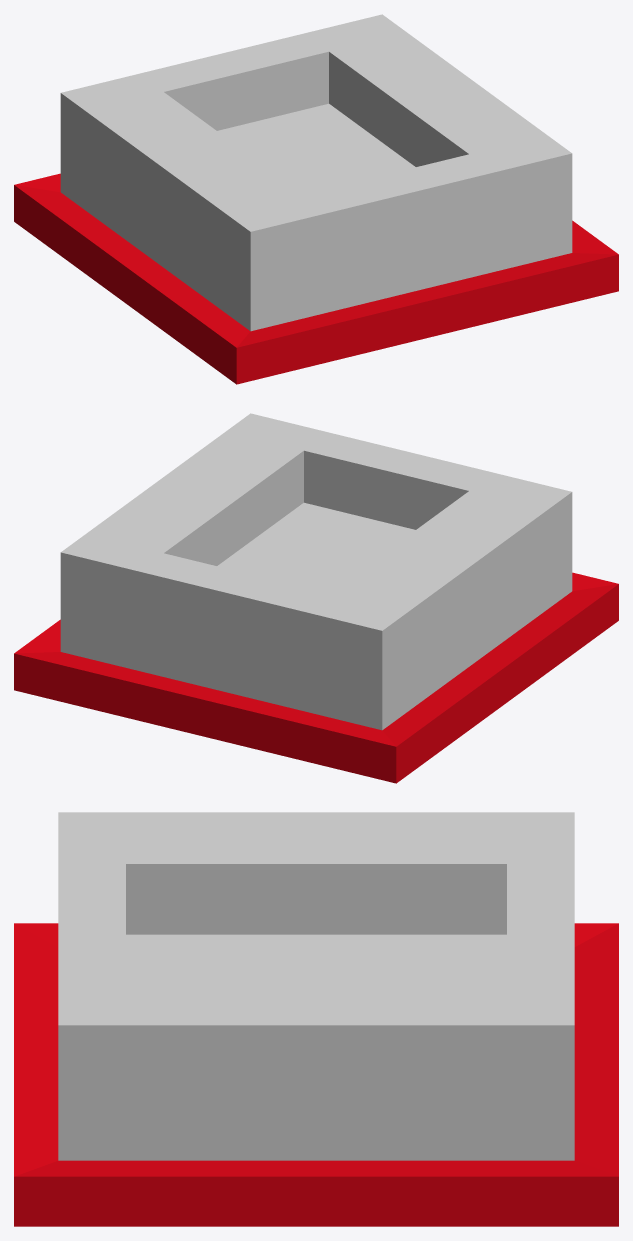
File: SwitchBaseModel.fbx
3 renders of one model, top to bottom at view 1: azimuth 30°, elevation 25°; view 2: azimuth 150°, elevation 25°; view 3: azimuth 270°, elevation 25°, orthographic. The views are drawn at different scales.
Visible parts, largest first — view 1: Cube; view 2: Cube; view 3: Cube.
Part boxes in pixels (left/top/right/bottom): Cube: left=14, top=14, right=618, bottom=384; Cube: left=14, top=413, right=618, bottom=783; Cube: left=14, top=812, right=618, bottom=1226.
Bounding box in the file's own units: 307 × 102 × 309.
